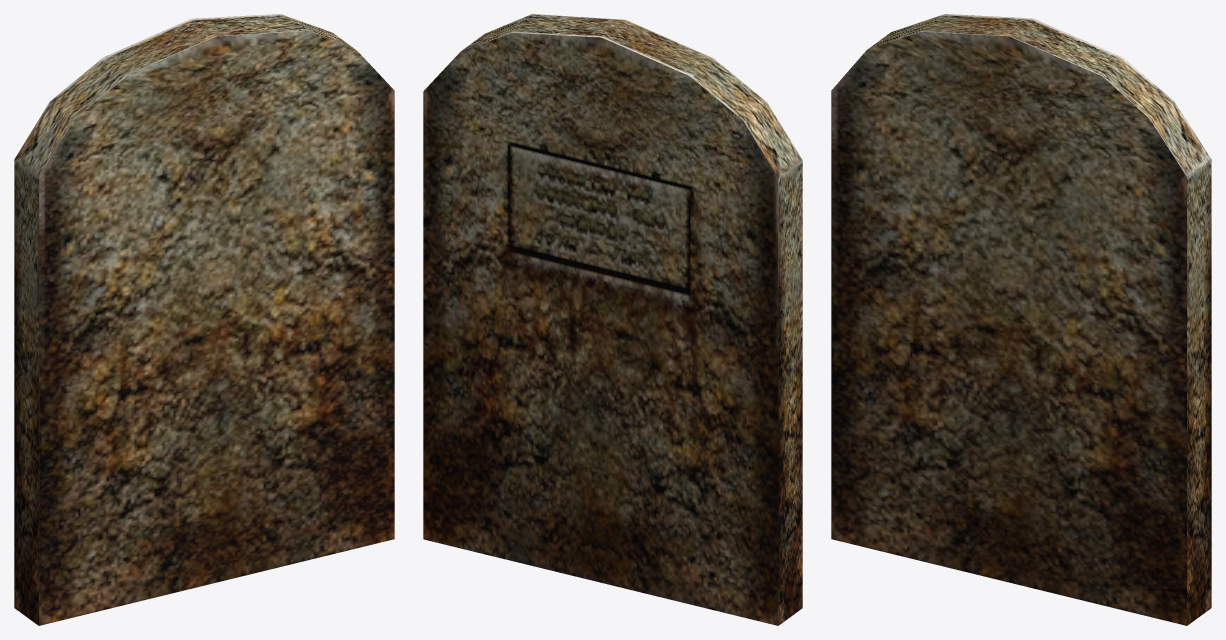
Rendered from cem_tomb2c.glb.
3 renders of one model, left to right at view 1: azimuth 30°, elevation 25°; view 2: azimuth 150°, elevation 25°; view 3: azimuth 330°, elevation 25°, orthographic.
Visible parts, largest first — view 1: cem_tomb2c; view 2: cem_tomb2c; view 3: cem_tomb2c.
Boxes of the visible parts, x1,y1,x2,y2 form: cem_tomb2c: (14, 14, 394, 625); cem_tomb2c: (423, 14, 802, 625); cem_tomb2c: (831, 14, 1211, 625).
Bounding box in the file's own units: 1.3 × 1.91 × 0.1549.
Materials: 2 (2 with a texture image).
